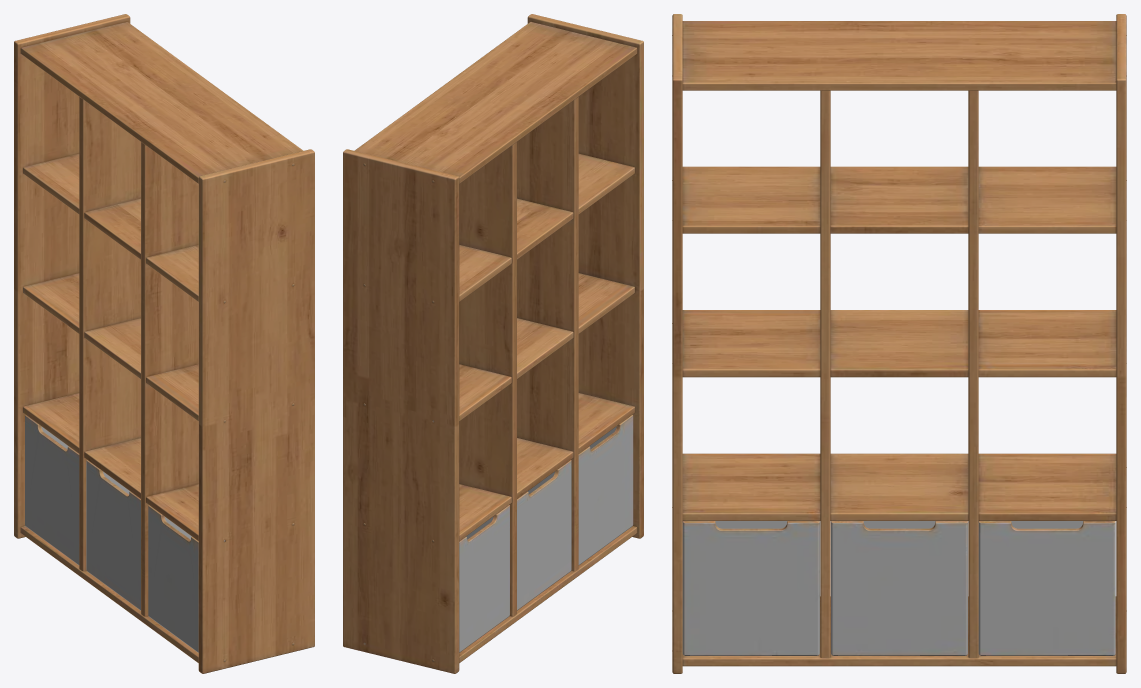
Rendered from wooden_display_shelves_01.glb.
3 renders of one model, left to right at view 1: azimuth 30°, elevation 25°; view 2: azimuth 150°, elevation 25°; view 3: azimuth 270°, elevation 25°, orthographic. The views are drawn at different scales.
Parts seen in each view (by area): view 1: wooden_display_shelves_01, wooden_display_shelves_01_drawer_01, wooden_display_shelves_01_drawer_02, wooden_display_shelves_01_drawer_03; view 2: wooden_display_shelves_01, wooden_display_shelves_01_drawer_03, wooden_display_shelves_01_drawer_02, wooden_display_shelves_01_drawer_01; view 3: wooden_display_shelves_01, wooden_display_shelves_01_drawer_03, wooden_display_shelves_01_drawer_01, wooden_display_shelves_01_drawer_02.
Boxes of the visible parts, box(x1,y1,x2,y2) form: wooden_display_shelves_01: box(14, 14, 314, 673); wooden_display_shelves_01_drawer_01: box(25, 415, 79, 565); wooden_display_shelves_01_drawer_02: box(86, 460, 140, 610); wooden_display_shelves_01_drawer_03: box(148, 505, 198, 652); wooden_display_shelves_01: box(343, 14, 643, 673); wooden_display_shelves_01_drawer_03: box(578, 415, 633, 565); wooden_display_shelves_01_drawer_02: box(517, 460, 571, 610); wooden_display_shelves_01_drawer_01: box(459, 505, 509, 652); wooden_display_shelves_01: box(672, 14, 1126, 673); wooden_display_shelves_01_drawer_03: box(682, 521, 819, 655); wooden_display_shelves_01_drawer_01: box(978, 521, 1115, 655); wooden_display_shelves_01_drawer_02: box(831, 521, 967, 655).
Bounding box in the file's own units: 0.3714 × 1.56 × 1.08.
1 material, 1 textured.
